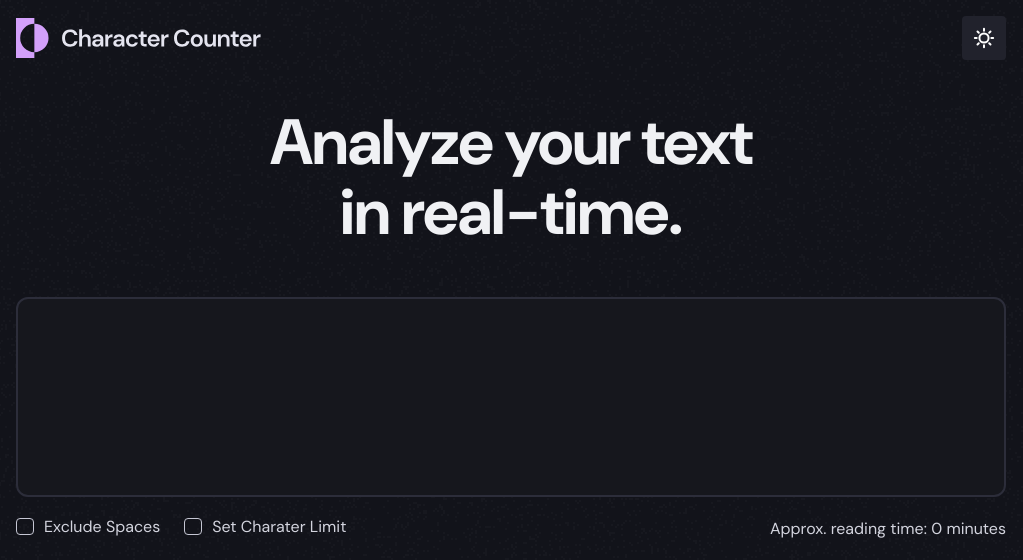
Test: Checkboxes state › should render the limit input when limit checkbox is checked
The width and height of the screenshot is (1023, 560).
Click the checkbox labelled "Set Charater Limit" at (193, 527), box [184, 518, 202, 536]
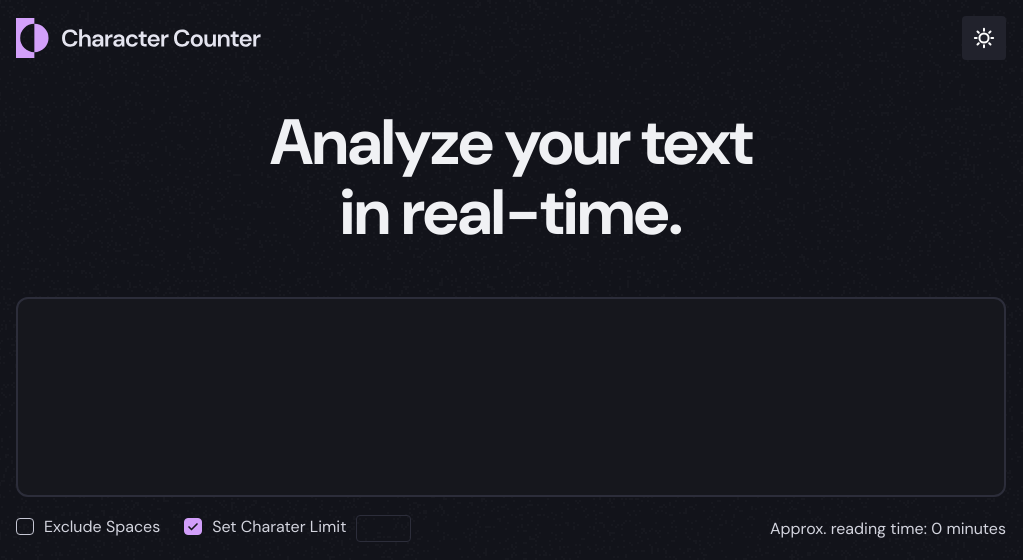
Check: the field is shown, box [356, 515, 411, 543]
